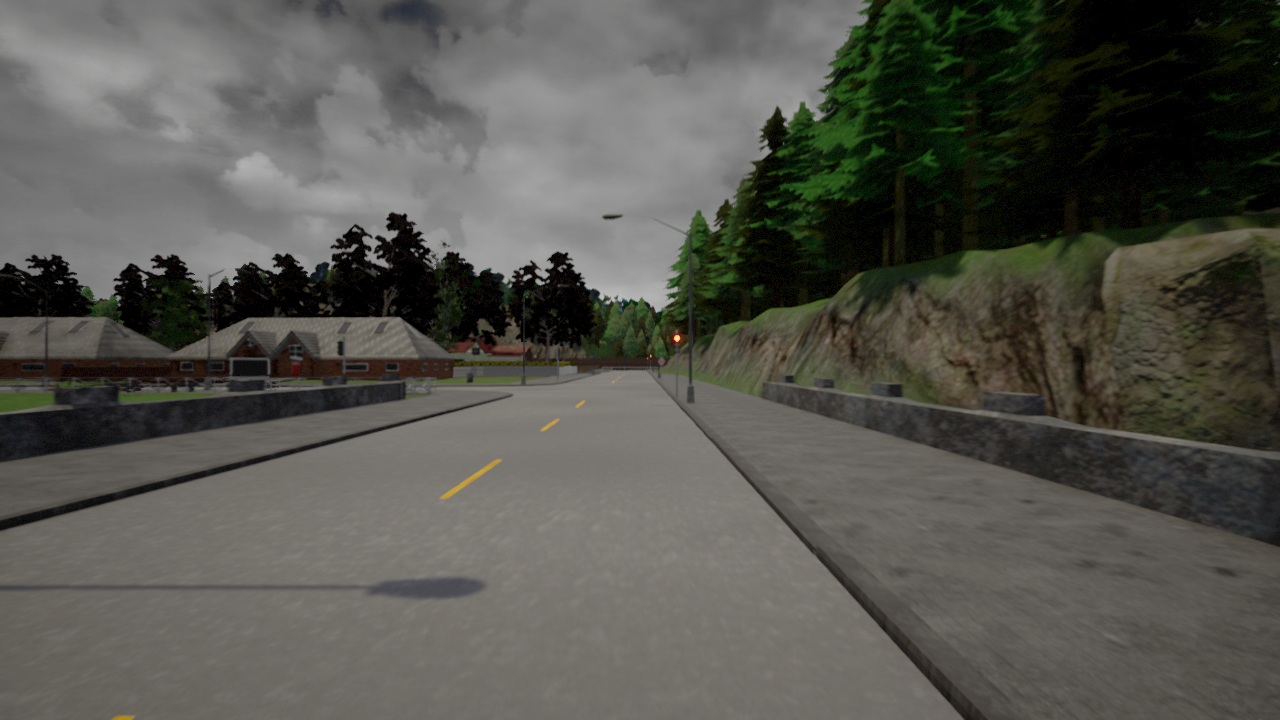red: (674, 334, 682, 356)
